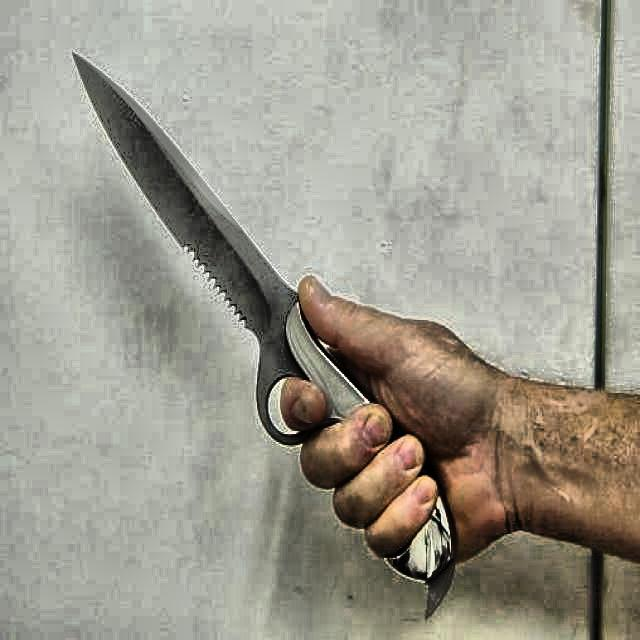knife: (71, 53, 457, 619)
